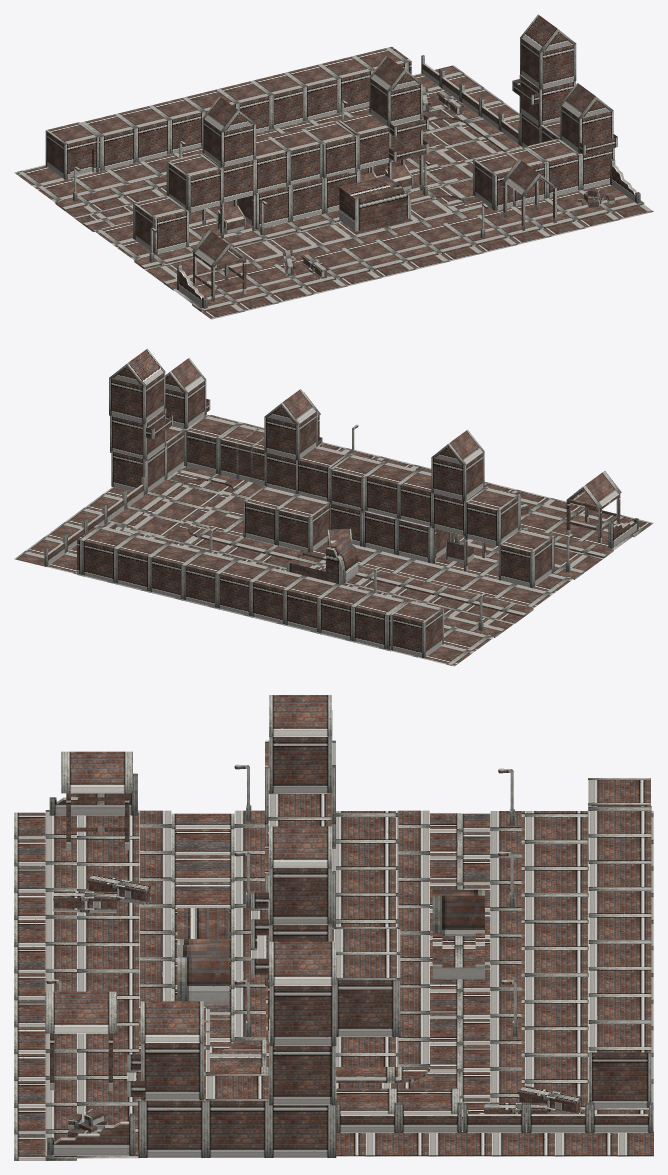
The model's file is MapaIA.fbx.
The picture shows the model from 3 angles, top to bottom: view 1: azimuth 30°, elevation 25°; view 2: azimuth 150°, elevation 25°; view 3: azimuth 270°, elevation 25°; orthographic projection. The views are drawn at different scales.
Visible parts, largest first — view 1: wallB, roadDirt_side, roadAsphalt_straight, roadDirt_pavement, roadDirt_pavement.002, roadDirt_pavement.001, truck_green, wallA.010, wallA.011, wallB_garage, roadDirt_side.004, wallA.014 (+39 smaller); view 2: wallB, roadDirt_pavement.001, roadDirt_side.005, wallA.011, wallA.010, wallA, wallA.007, wallB_garage, roadDirt_side, roadDirt_pavement.002, wallA.014, truck_flat (+34 smaller); view 3: roadDirt_pavement.002, roadAsphalt_straight, wallB, roadDirt_side, roadDirt_side.004, roadDirt_pavement, roadDirt_side.005, wallA, roadDirt_pavement.001, grass, wallA.006, truck_green (+36 smaller).
Boxes of the visible parts, x1,y1,x2,y2 form: wallB: [81, 46, 411, 171]; roadDirt_side: [192, 197, 653, 319]; roadAsphalt_straight: [134, 190, 464, 290]; roadDirt_pavement: [173, 183, 627, 303]; roadDirt_pavement.002: [14, 73, 460, 202]; roadDirt_pavement.001: [93, 155, 459, 260]; truck_green: [339, 176, 410, 232]; wallA.010: [166, 153, 222, 212]; wallA.011: [133, 195, 188, 254]; wallB_garage: [45, 122, 98, 179]; roadDirt_side.004: [55, 112, 446, 217]; wallA.014: [520, 37, 576, 89]; wallB: [77, 525, 408, 651]; roadDirt_pavement.001: [208, 503, 573, 608]; roadDirt_side.005: [189, 528, 533, 624]; wallA.011: [498, 528, 554, 588]; wallA.010: [465, 486, 520, 546]; wallA: [111, 425, 186, 494]; wallA.007: [277, 494, 330, 552]; wallB_garage: [390, 600, 443, 658]; roadDirt_side: [210, 415, 653, 537]; roadDirt_pavement.002: [47, 545, 494, 666]; wallA.014: [109, 371, 165, 423]; truck_flat: [286, 536, 358, 584]; roadDirt_pavement.002: [521, 811, 653, 1131]; roadAsphalt_straight: [140, 810, 265, 1043]; wallB: [588, 806, 651, 1107]; roadDirt_side: [14, 810, 76, 1160]; roadDirt_side.004: [458, 811, 521, 1106]; roadDirt_pavement: [77, 810, 139, 1158]; roadDirt_side.005: [398, 810, 461, 1071]; wallA: [138, 1074, 336, 1157]; roadDirt_pavement.001: [266, 811, 398, 1066]; grass: [336, 1131, 653, 1156]; wallA.006: [336, 953, 400, 1036]; truck_green: [177, 908, 229, 1004].
Bounding box in the file's own units: 1313 × 362 × 1016.
151 materials, 151 textured.
